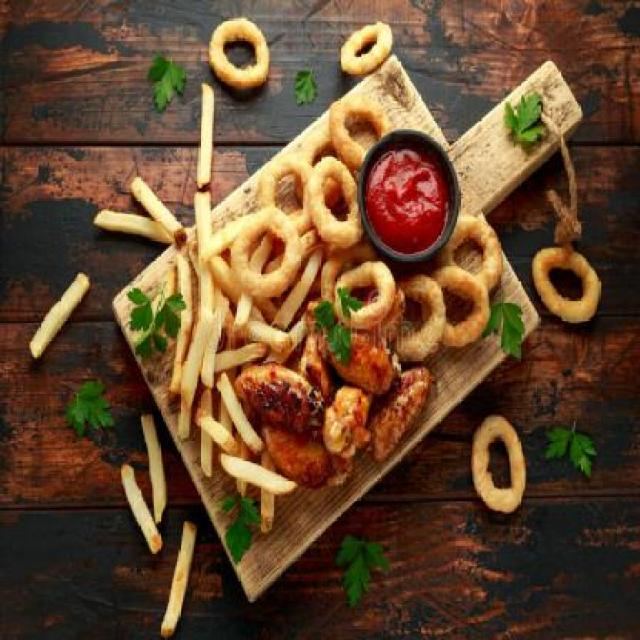chicken wings: (231, 318, 443, 480)
french fries: (18, 69, 322, 632)
onion rings: (212, 12, 608, 523)
